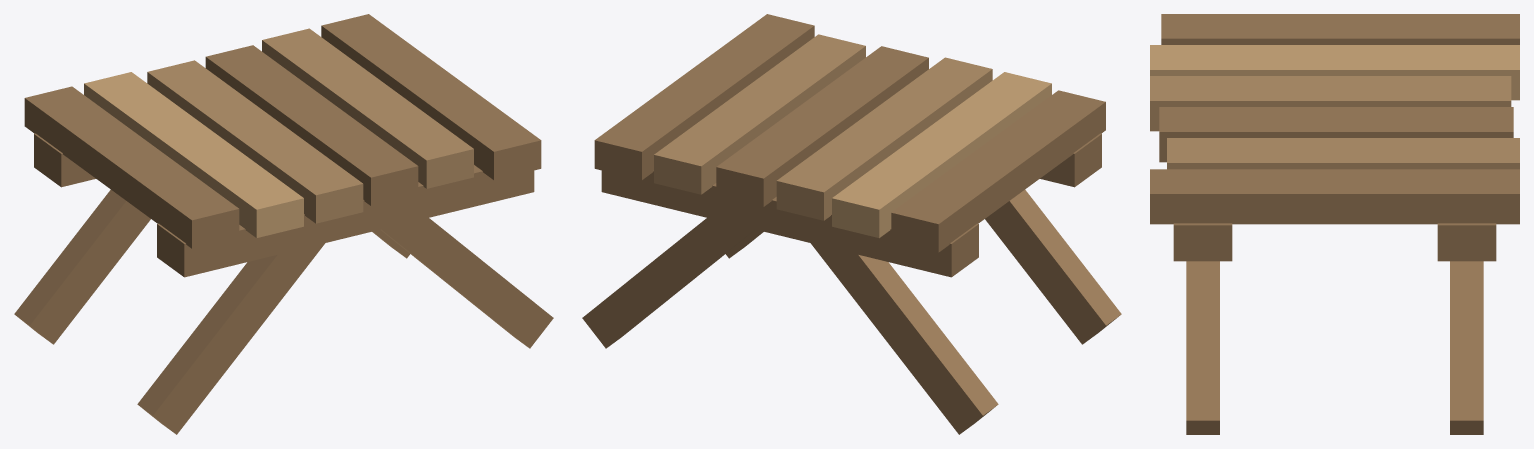
The model's file is SM_Bridge_Wooden_01_A.fbx.
The picture shows the model from 3 angles, left to right: view 1: azimuth 30°, elevation 25°; view 2: azimuth 150°, elevation 25°; view 3: azimuth 270°, elevation 25°; orthographic projection. The views are drawn at different scales.
Visible parts, largest first — view 1: pCube89; view 2: pCube89; view 3: pCube89.
Part boxes in pixels (x1,y1,x2,y2): pCube89: (14,14,553,434); pCube89: (582,14,1121,434); pCube89: (1150,14,1519,434).
Bounding box in the file's own units: 118 × 62.51 × 88.
Materials: 1 (1 with a texture image).
